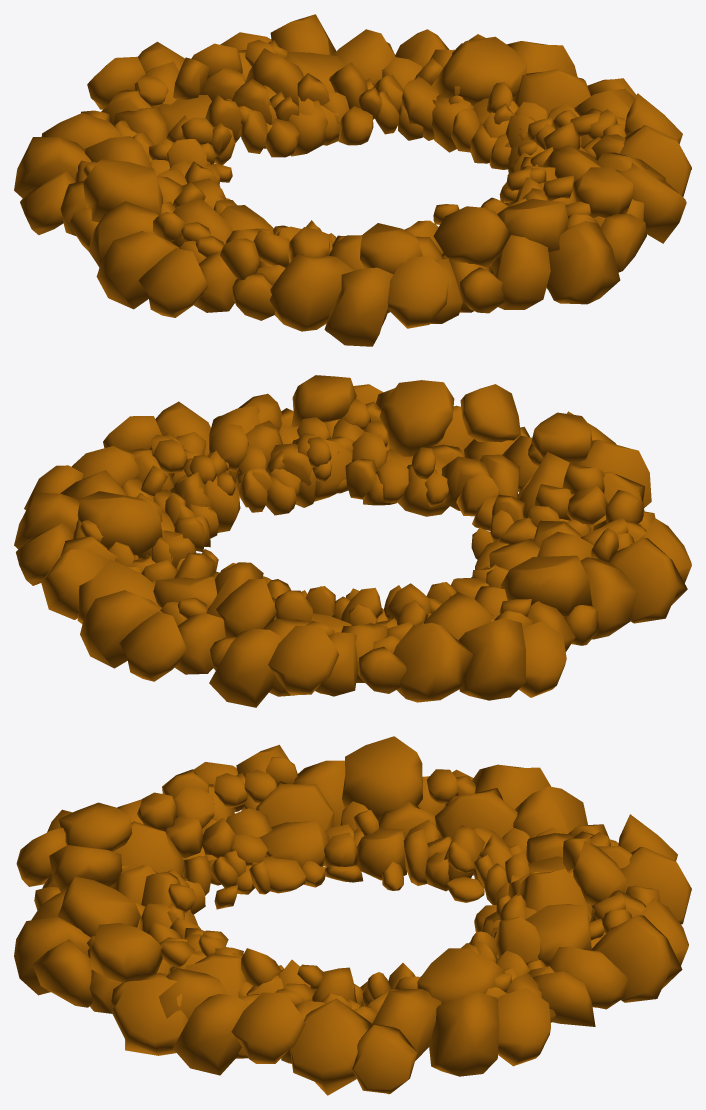
The model's file is RocasFlor.fbx.
3 renders of one model, top to bottom at view 1: azimuth 30°, elevation 25°; view 2: azimuth 150°, elevation 25°; view 3: azimuth 270°, elevation 25°, orthographic. The views are drawn at different scales.
Visible parts, largest first — view 1: polySurface8; view 2: polySurface8; view 3: polySurface8.
Part boxes in pixels (x1,y1,x2,y2): polySurface8: (14, 14, 691, 346); polySurface8: (14, 375, 691, 707); polySurface8: (14, 736, 691, 1095).
Bounding box in the file's own units: 163 × 29.97 × 157.
